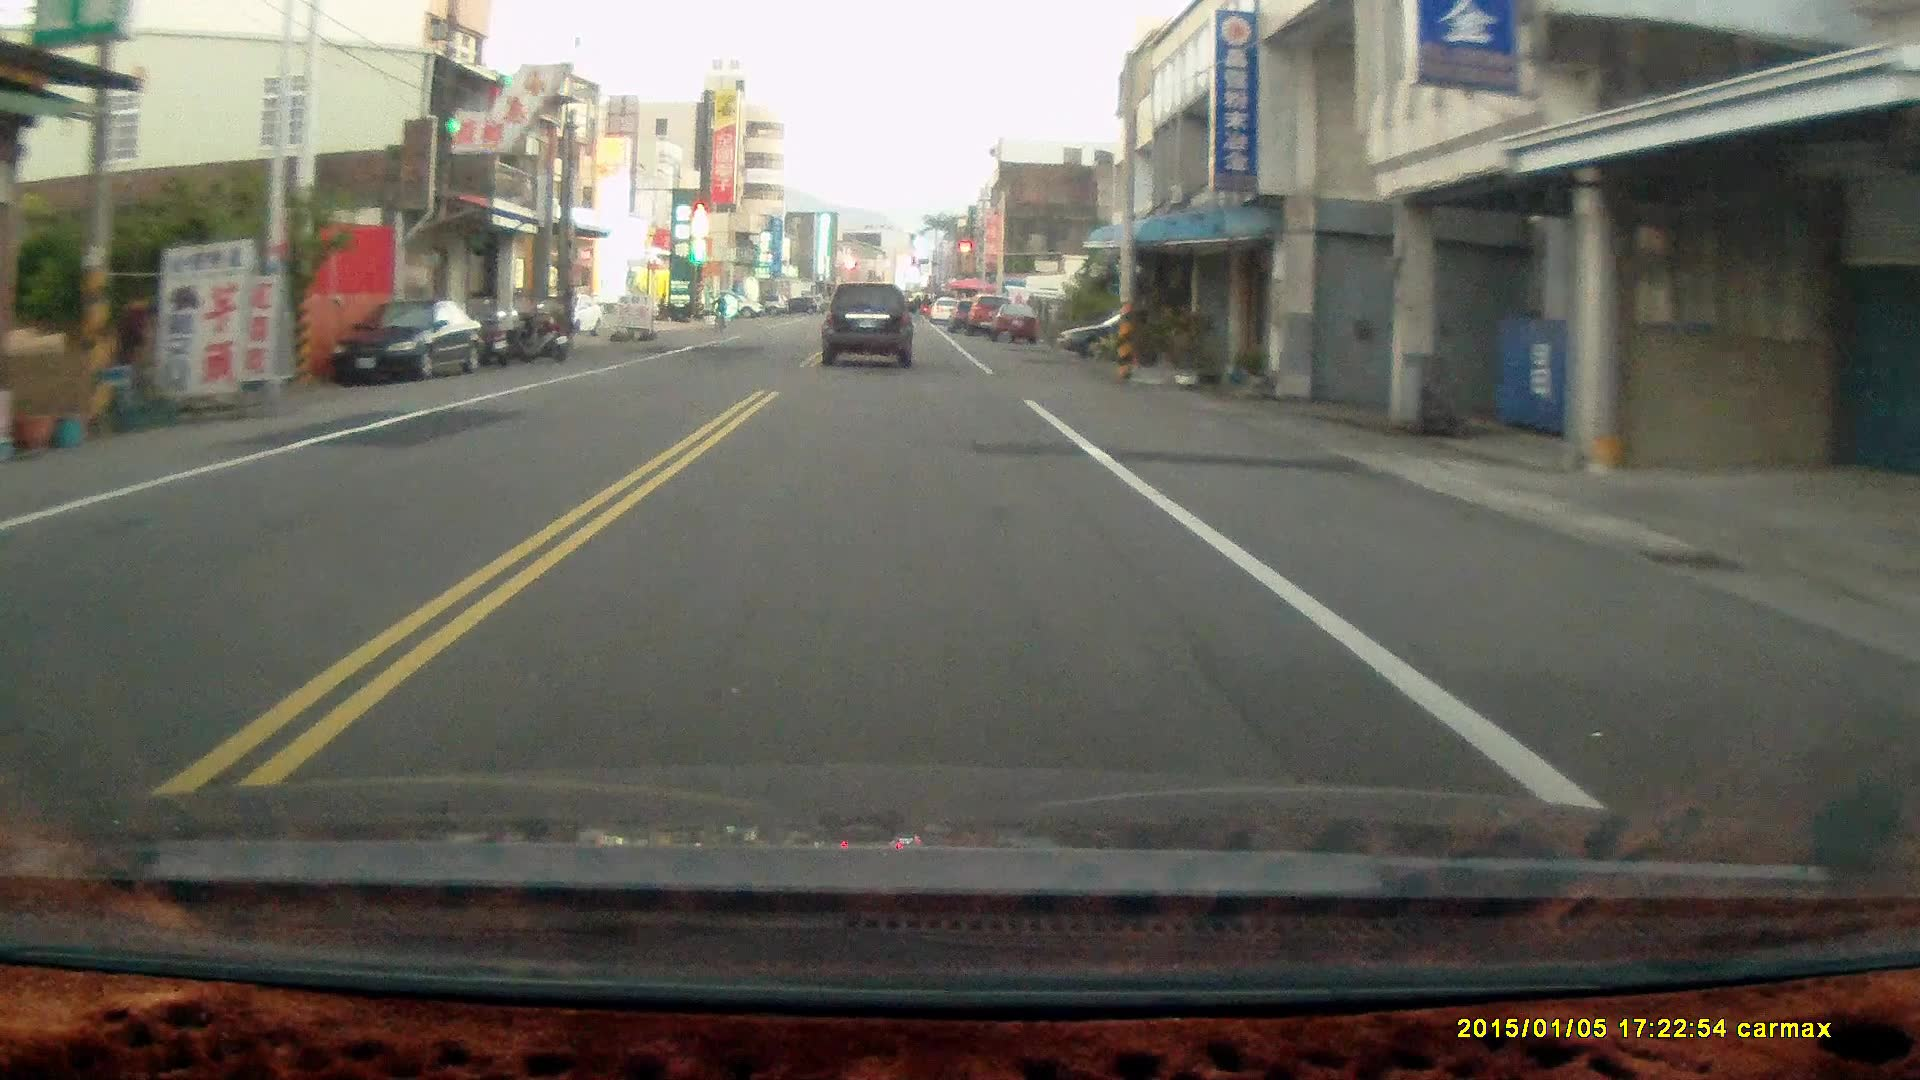pedestrian: (109, 294, 148, 415)
rider: (706, 291, 728, 332)
vehicle: (328, 300, 487, 389), (820, 282, 917, 370)
